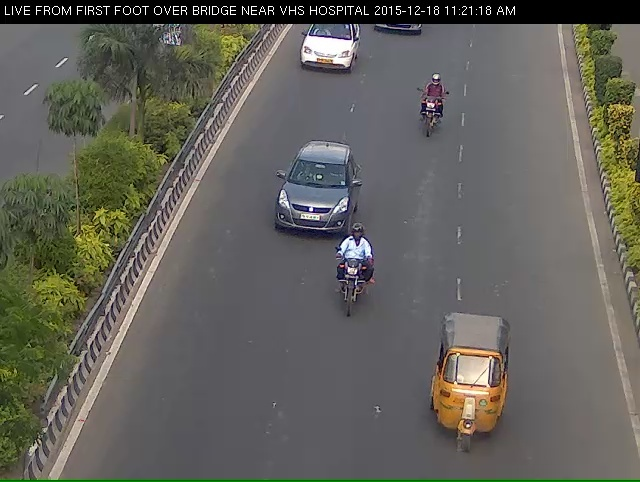Auto: (430, 332, 517, 477)
Car: (260, 153, 346, 257), (296, 23, 354, 84)
Person: (331, 248, 372, 338), (412, 77, 448, 150)
